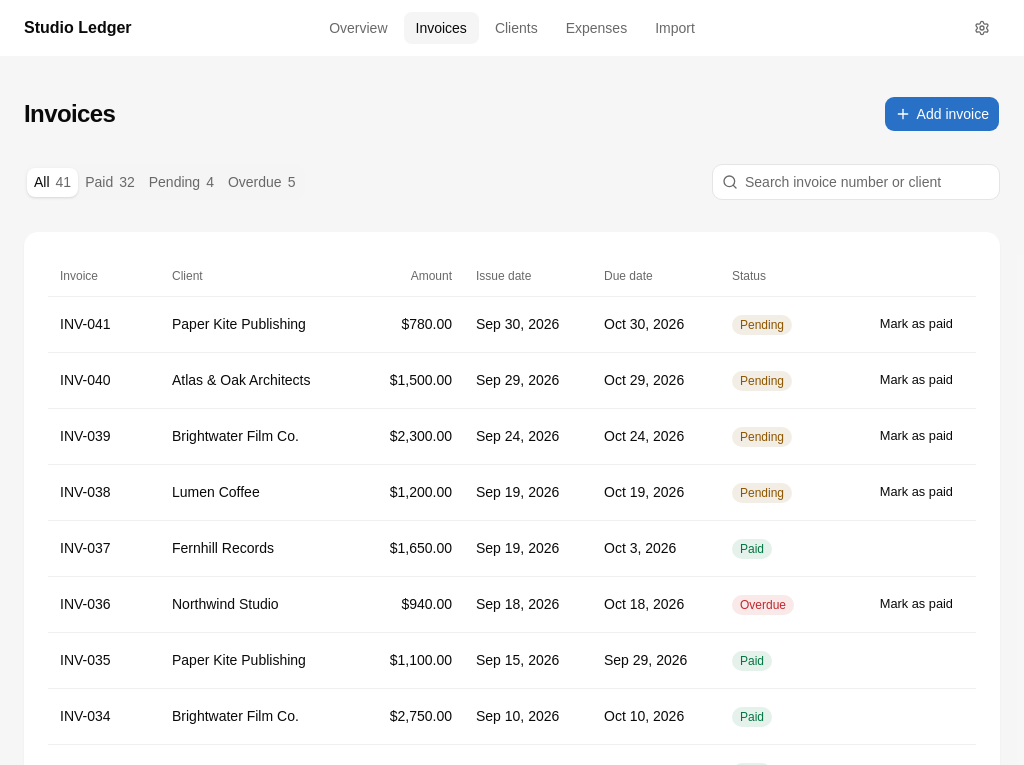
Test: Invoices › searches invoice number and client name, with an empty state
The width and height of the screenshot is (1024, 765).
Type "fernhill" into the search field named "Search invoices" at x=856, y=182, box [712,164,1000,200]
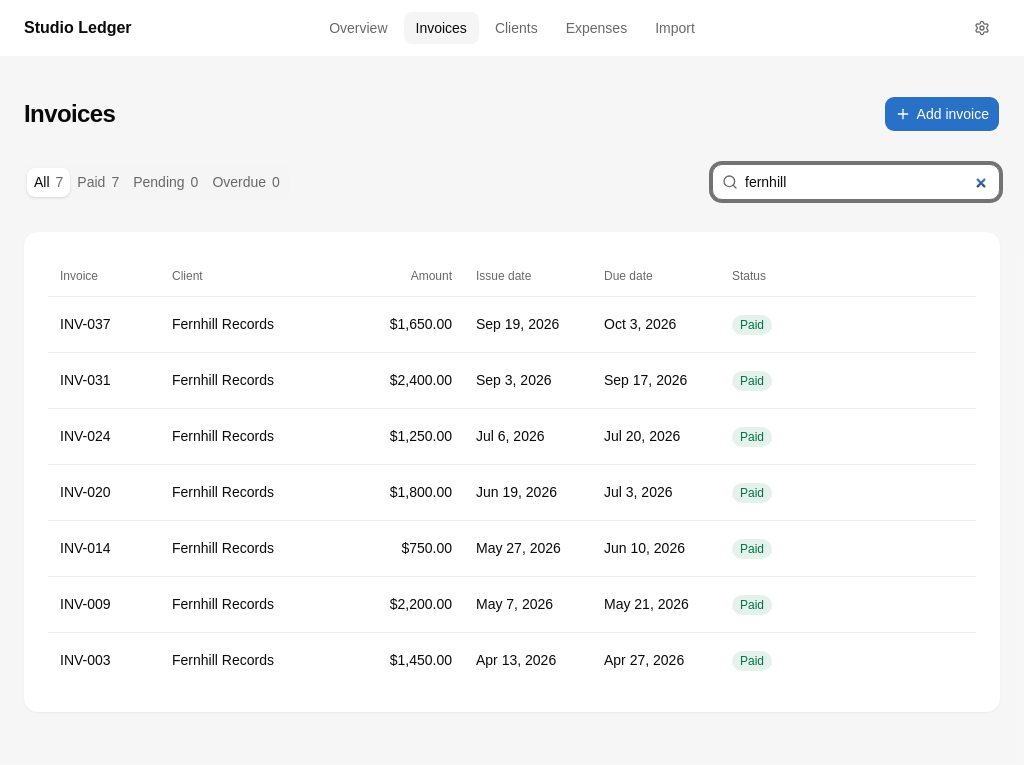
Click the tab "Overdue 0" at x=246, y=182, box [205,168,287,196]
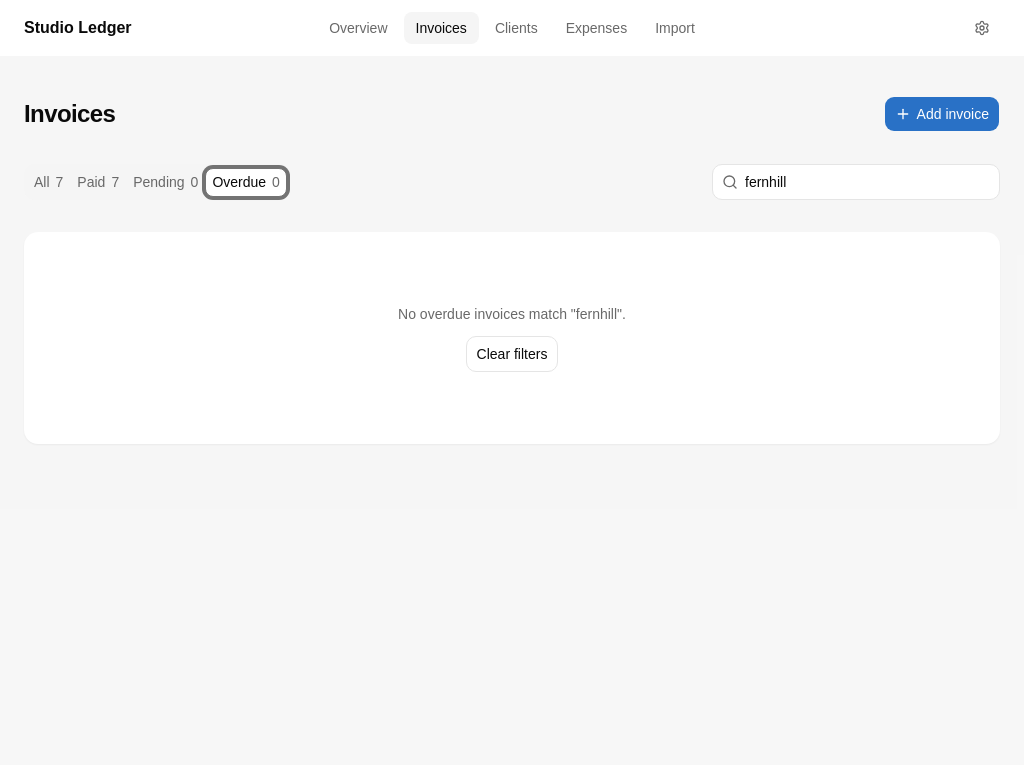
Now the text "No overdue invoices match \"fernhill\"." is shown, box [398,304,626,324]
Click the button "Clear filters" at x=512, y=354, box [466,336,558,372]
(page scrolled)
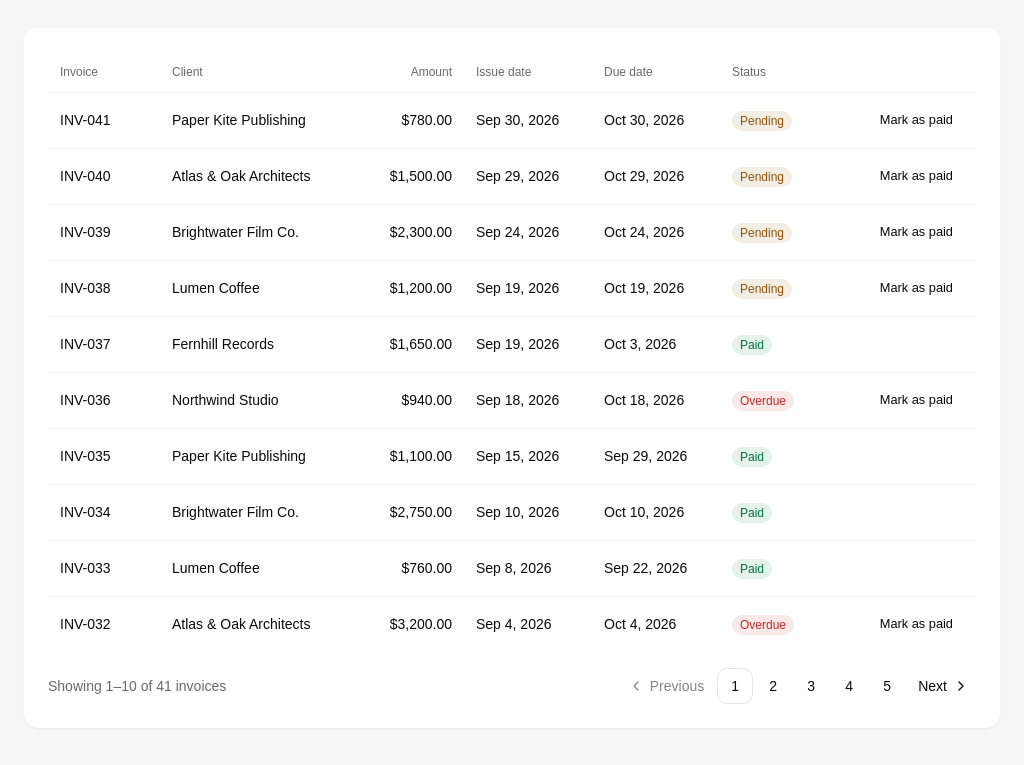
Now the text "Showing 1–10 of 41 invoices" is shown, box [48,676,226,696]
